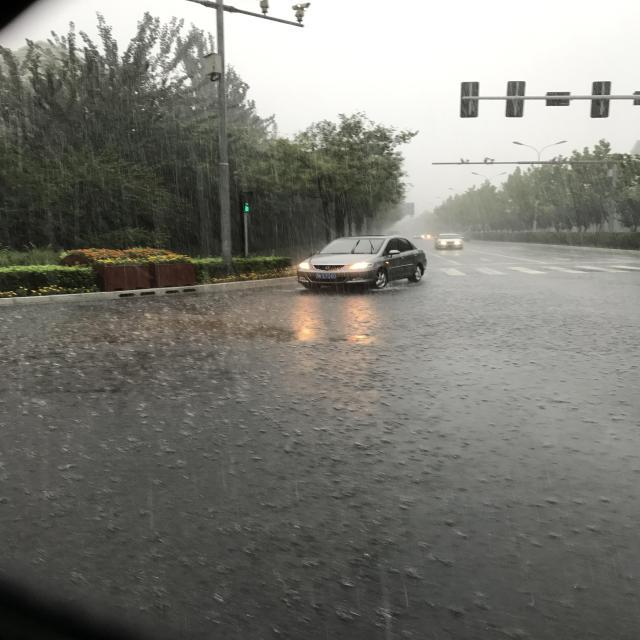car: (234, 212, 292, 346), (233, 174, 249, 203), (232, 210, 239, 229)
